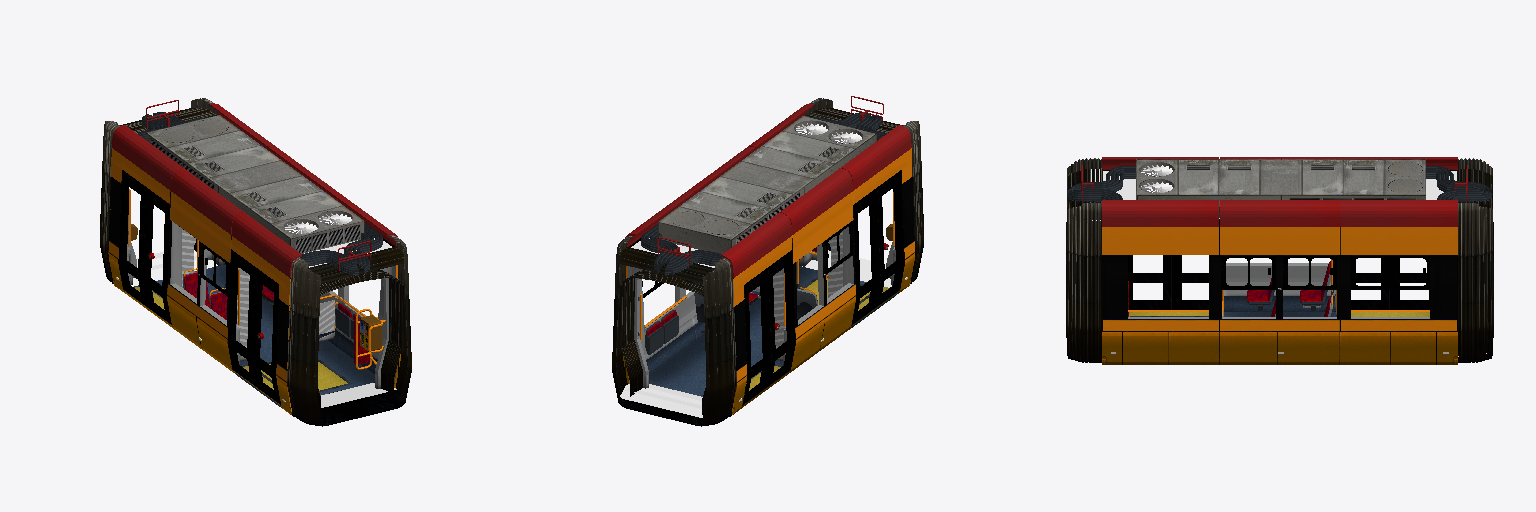
3 renders of one model, left to right at view 1: azimuth 30°, elevation 25°; view 2: azimuth 150°, elevation 25°; view 3: azimuth 270°, elevation 25°, orthographic.
Parts seen in each view (by area): view 1: EXT, INT, D_RL, D_RR, steklo; view 2: EXT, INT, D_RL, D_RR, steklo; view 3: EXT, INT, DL_RR, DL_RL.
Part boxes in pixels (x1,y1,x2,y2): EXT: (100,98,411,426); INT: (127,189,401,413); D_RL: (119,170,256,386); D_RR: (143,187,280,404); steklo: (182,229,334,347); EXT: (612,96,923,426); INT: (621,192,897,419); D_RL: (742,188,880,405); D_RR: (767,170,904,386); steklo: (753,231,842,348); EXT: (1066,157,1493,364); INT: (1128,259,1429,316); DL_RR: (1128,255,1388,309); DL_RL: (1171,255,1429,309).
Bounding box in the file's own units: 2.56 × 3.52 × 8.12.
Materials: 51 (31 with a texture image).